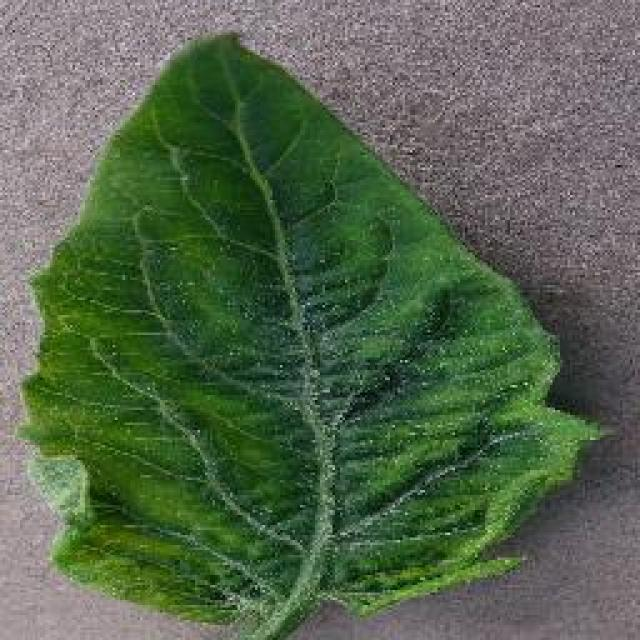Tomato yellow virus leaf: (19, 31, 614, 626)
